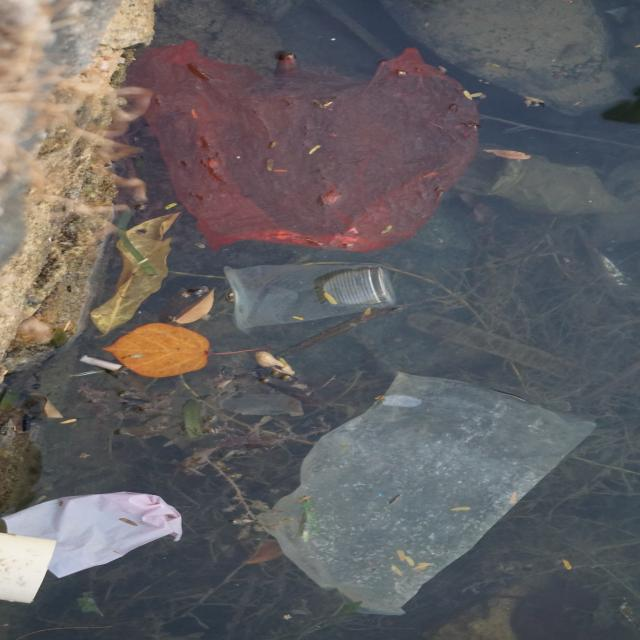Bungkus Minuman: (9, 476, 194, 582), (218, 253, 408, 342)
Kantong Plastik: (252, 366, 597, 612), (121, 42, 478, 256)
